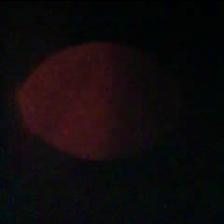fertile: (12, 36, 188, 163)
